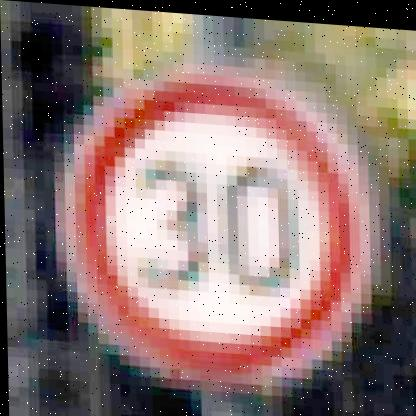Speed Limit -30-: (67, 53, 383, 394)
